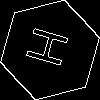H: (25, 25, 79, 72)
